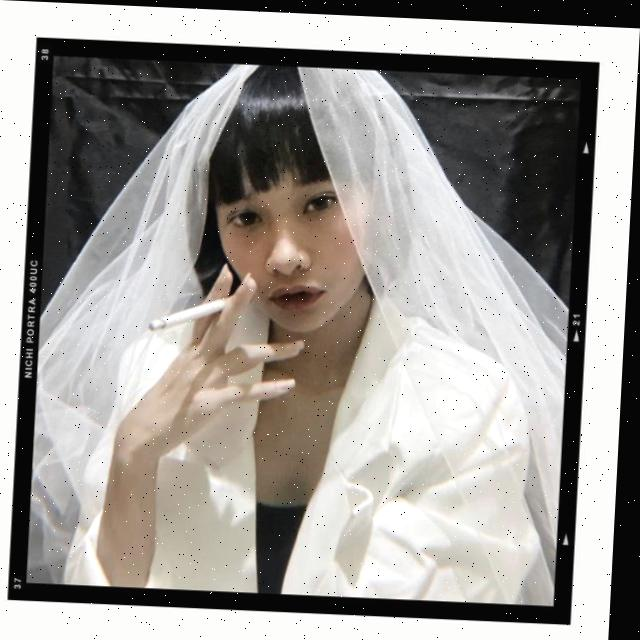cigarette: (151, 291, 236, 331)
